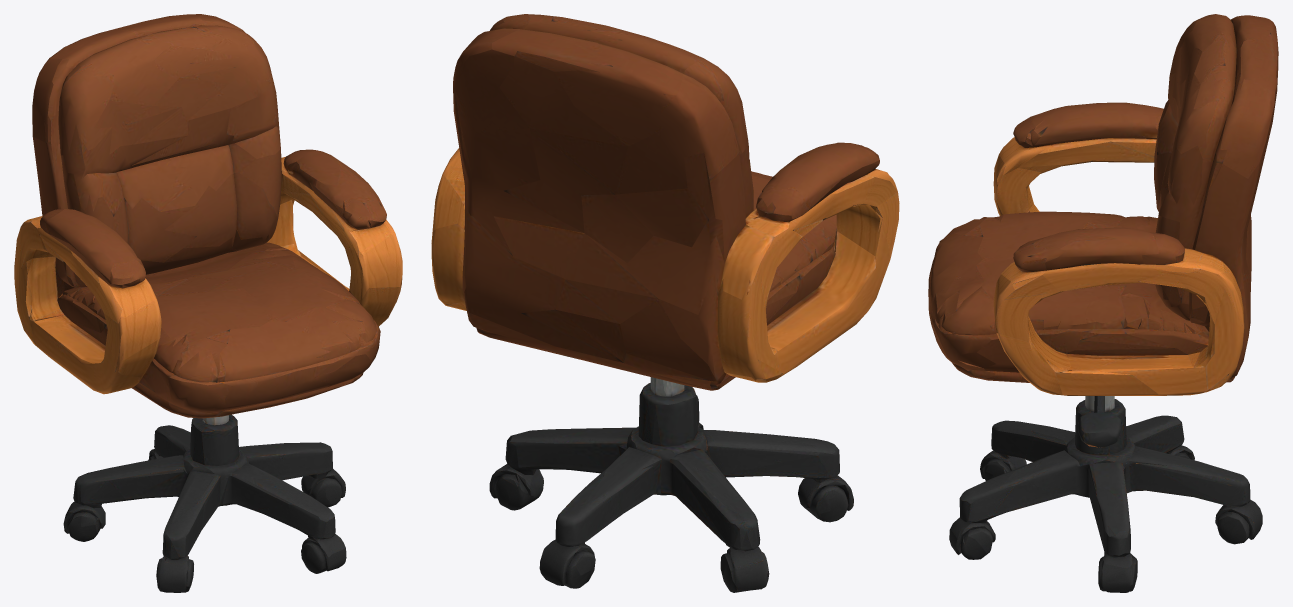
The model's file is chair_brown.glb.
3 renders of one model, left to right at view 1: azimuth 30°, elevation 25°; view 2: azimuth 150°, elevation 25°; view 3: azimuth 270°, elevation 25°, orthographic. The views are drawn at different scales.
Parts seen in each view (by area): view 1: mesh_node; view 2: mesh_node; view 3: mesh_node.
Part boxes in pixels (x1,y1,x2,y2): mesh_node: (14,14,402,592); mesh_node: (431,14,899,592); mesh_node: (928,14,1278,592).
Size of the model in its own units: 0.2989 by 0.4613 by 0.3.
1 material, 1 textured.
